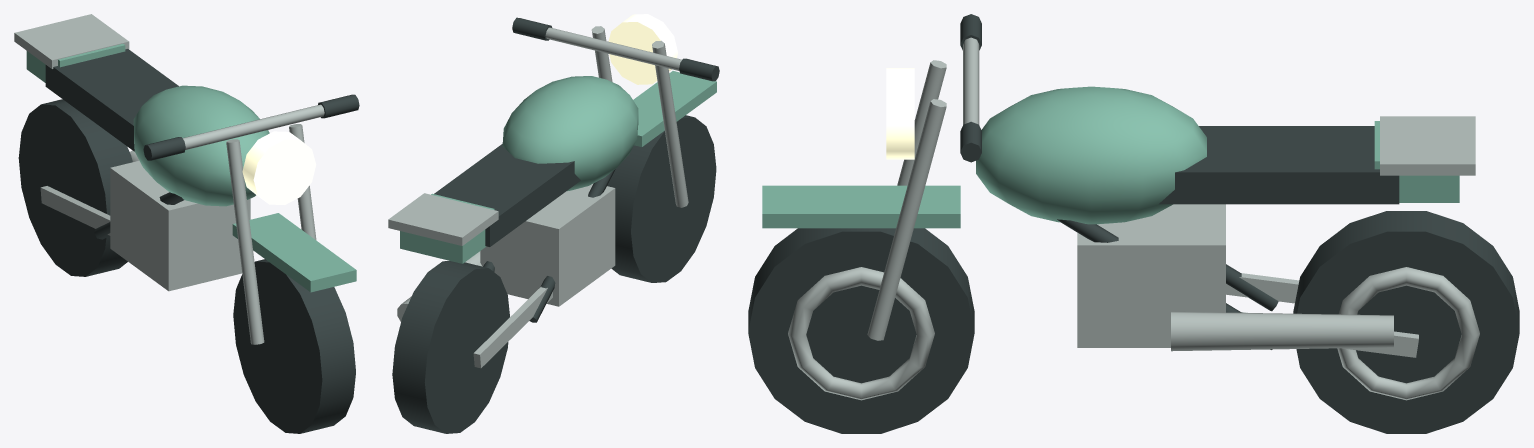
Rendered from wren.glb.
3 renders of one model, left to right at view 1: azimuth 30°, elevation 25°; view 2: azimuth 150°, elevation 25°; view 3: azimuth 270°, elevation 25°, orthographic. The views are drawn at different scales.
Visible parts, largest first — view 1: wheel_fl, wheel_rl, engine, tank, seat, front-fender, light_front, fork (×2), rear-rack, steering_wheel, grip (×2), rear-swingarm (+2 smaller); view 2: wheel_rl, wheel_fl, tank, engine, seat, rear-rack, front-fender, light_front, fork (×2), tail, steering_wheel, rear-swingarm (+2 smaller); view 3: wheel_fl, wheel_rl, tank, engine, seat, exhaust, front-fender, wheel_fl-alloy, wheel_rl-alloy, fork (×2), rear-rack, light_front (+5 smaller).
Boxes of the visible parts, bbox=[...] form: wheel_fl: bbox=[233, 259, 355, 433]; wheel_rl: bbox=[18, 99, 132, 276]; engine: bbox=[110, 160, 250, 291]; tank: bbox=[133, 85, 269, 206]; seat: bbox=[45, 49, 178, 151]; front-fender: bbox=[232, 213, 356, 292]; light_front: bbox=[242, 131, 316, 204]; fork (×2): bbox=[226, 124, 316, 344]; rear-rack: bbox=[14, 14, 129, 68]; steering_wheel: bbox=[182, 104, 324, 149]; grip (×2): bbox=[143, 94, 359, 160]; rear-swingarm: bbox=[40, 186, 110, 235]; wheel_rl: bbox=[392, 261, 509, 433]; wheel_fl: bbox=[607, 115, 716, 282]; tank: bbox=[502, 76, 638, 191]; engine: bbox=[480, 183, 615, 306]; seat: bbox=[434, 144, 580, 246]; rear-rack: bbox=[388, 193, 498, 245]; front-fender: bbox=[633, 71, 716, 146]; light_front: bbox=[608, 14, 677, 84]; fork (×2): bbox=[591, 26, 688, 207]; tail: bbox=[400, 193, 494, 263]; steering_wheel: bbox=[545, 27, 681, 70]; rear-swingarm: bbox=[473, 286, 552, 368]; wheel_fl: bbox=[748, 228, 974, 433]; wheel_rl: bbox=[1293, 211, 1519, 433]; tank: bbox=[976, 86, 1206, 224]; engine: bbox=[1077, 204, 1225, 347]; seat: bbox=[1159, 126, 1399, 204]; exhaust: bbox=[1171, 311, 1393, 351]; front-fender: bbox=[762, 185, 960, 228]; wheel_fl-alloy: bbox=[788, 267, 934, 400]; wheel_rl-alloy: bbox=[1337, 267, 1479, 400]; fork (×2): bbox=[867, 60, 946, 340]; rear-rack: bbox=[1380, 116, 1475, 175]; light_front: bbox=[886, 68, 914, 159].
Bounding box in the file's own units: 0.8521 × 1.09 × 2.16.
